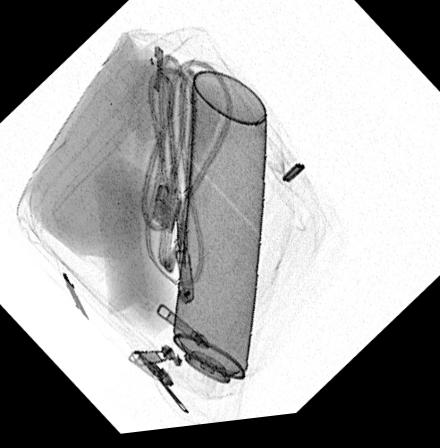Sprayer: (165, 74, 266, 427)
